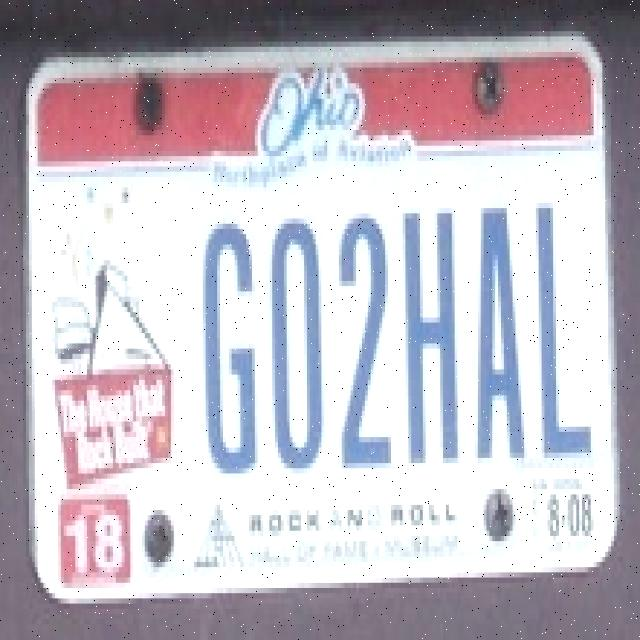licenseplate: (25, 39, 596, 593)
